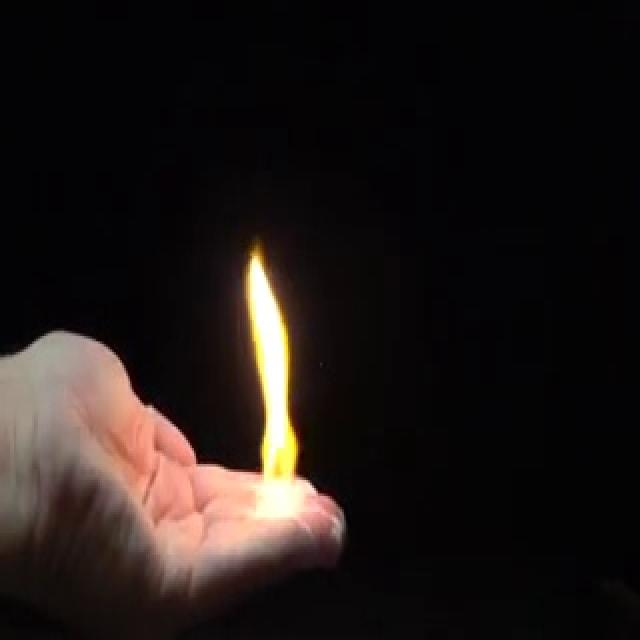fire: (232, 233, 307, 528)
